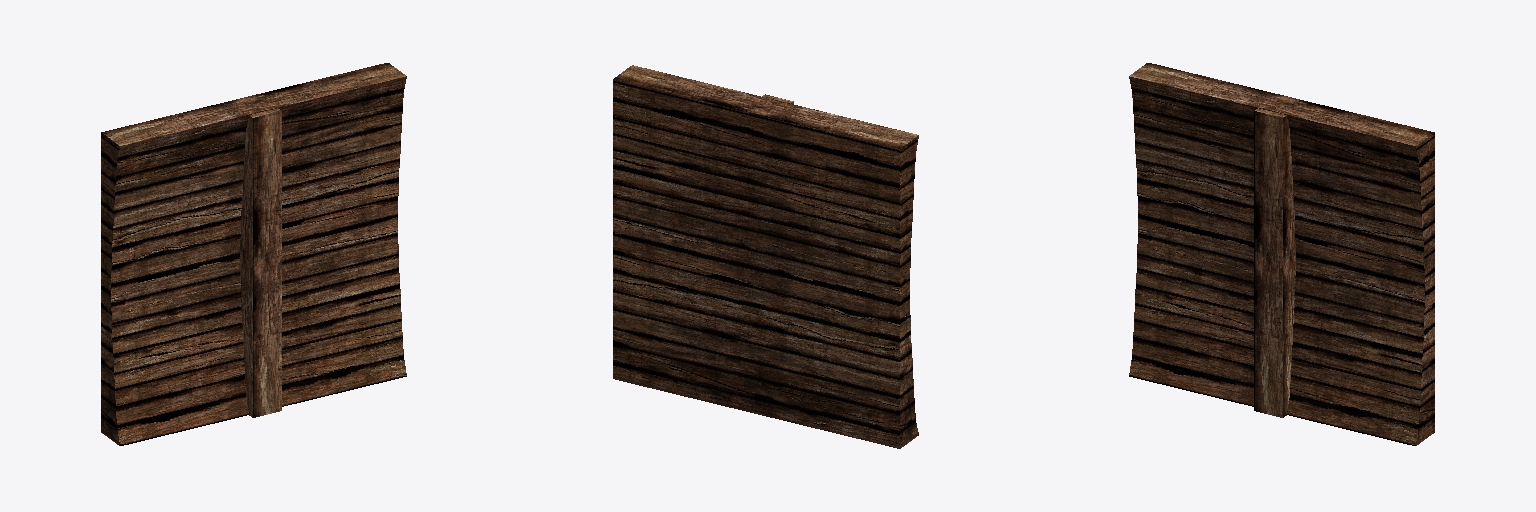
3 views of the same model, side by side, from view 1: azimuth 30°, elevation 25°; view 2: azimuth 150°, elevation 25°; view 3: azimuth 330°, elevation 25° (orthographic).
Parts seen in each view (by area): view 1: polySurface16; view 2: polySurface16; view 3: polySurface16.
Part boxes in pixels (x1,y1,x2,y2): polySurface16: (101,63,406,445); polySurface16: (613,65,918,448); polySurface16: (1129,63,1434,445).
Bounding box in the file's own units: 10 × 10.02 × 1.36.
Materials: 1 (1 with a texture image).